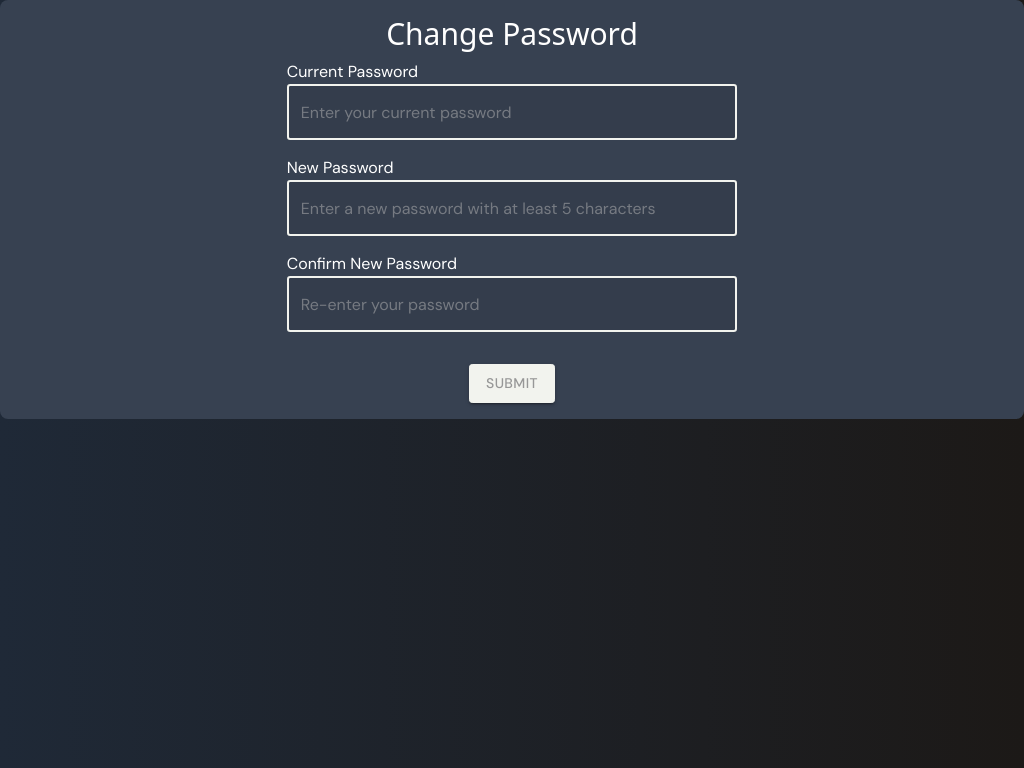
Test case: ChangePassword › Allow user to click submit button if the values of currentPassword, newPassword and confirmNewPassword is valid
Type "12345" into the password field labelled "Current Password". click: (512, 112)
box: left=287, top=84, right=737, bottom=140
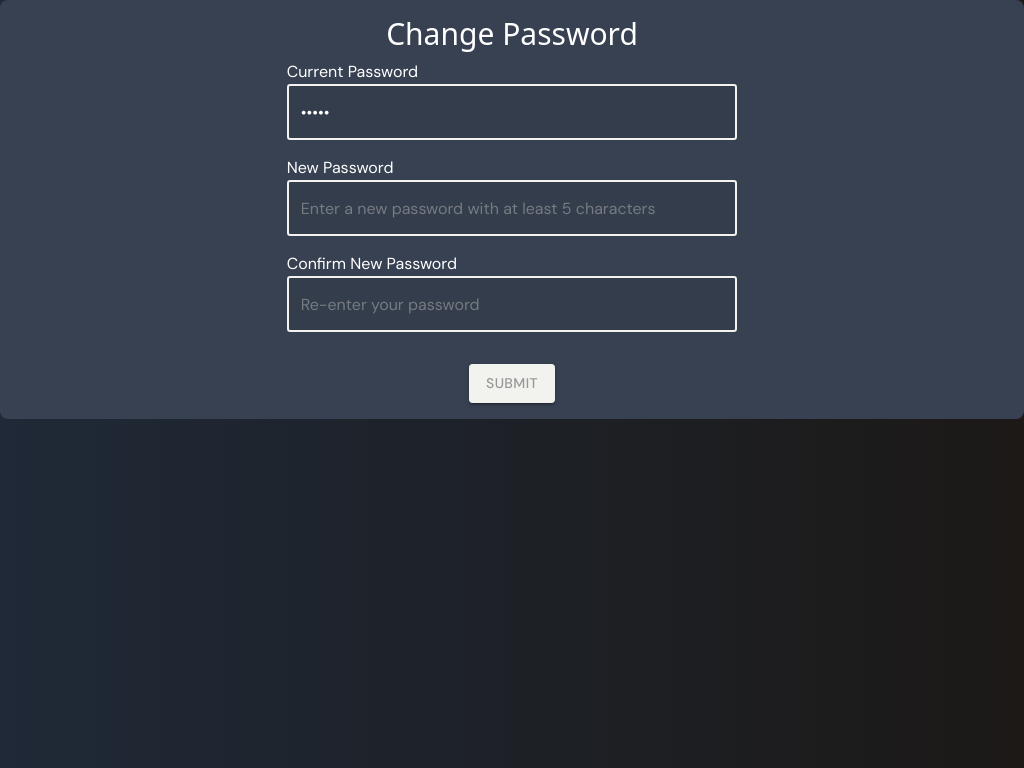
Type "56789" into the password field labelled "New Password". click: (512, 208)
box: left=287, top=180, right=737, bottom=236
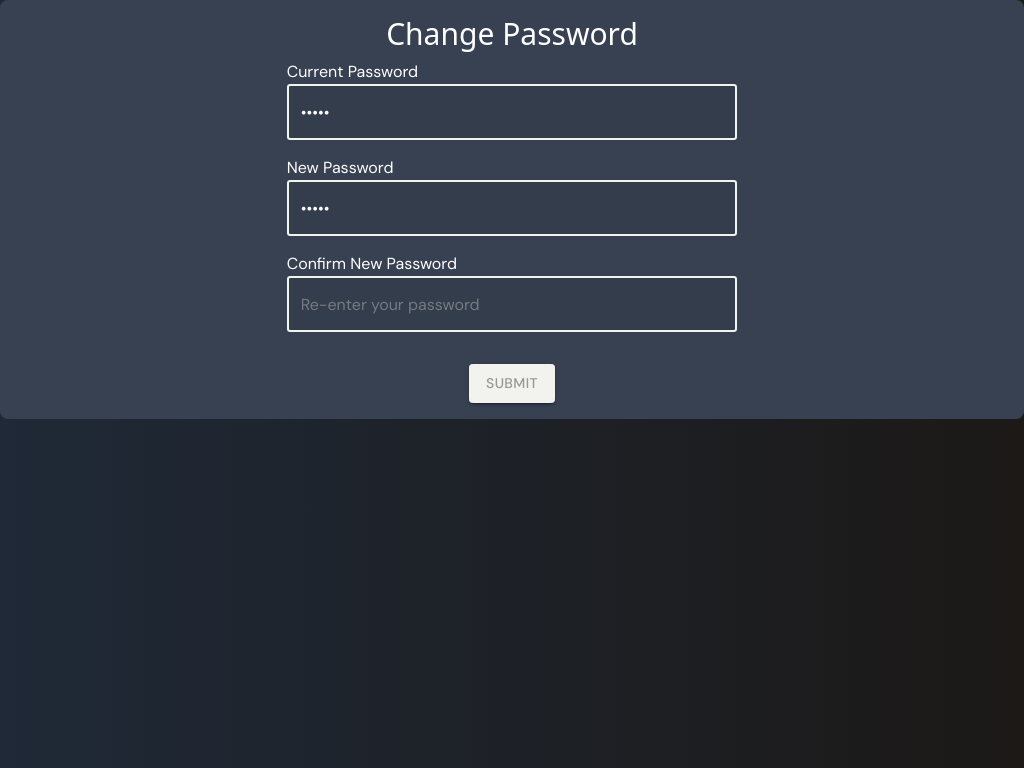
Type "56789" into the password field labelled "Confirm New Password". click: (512, 304)
box: left=287, top=276, right=737, bottom=332
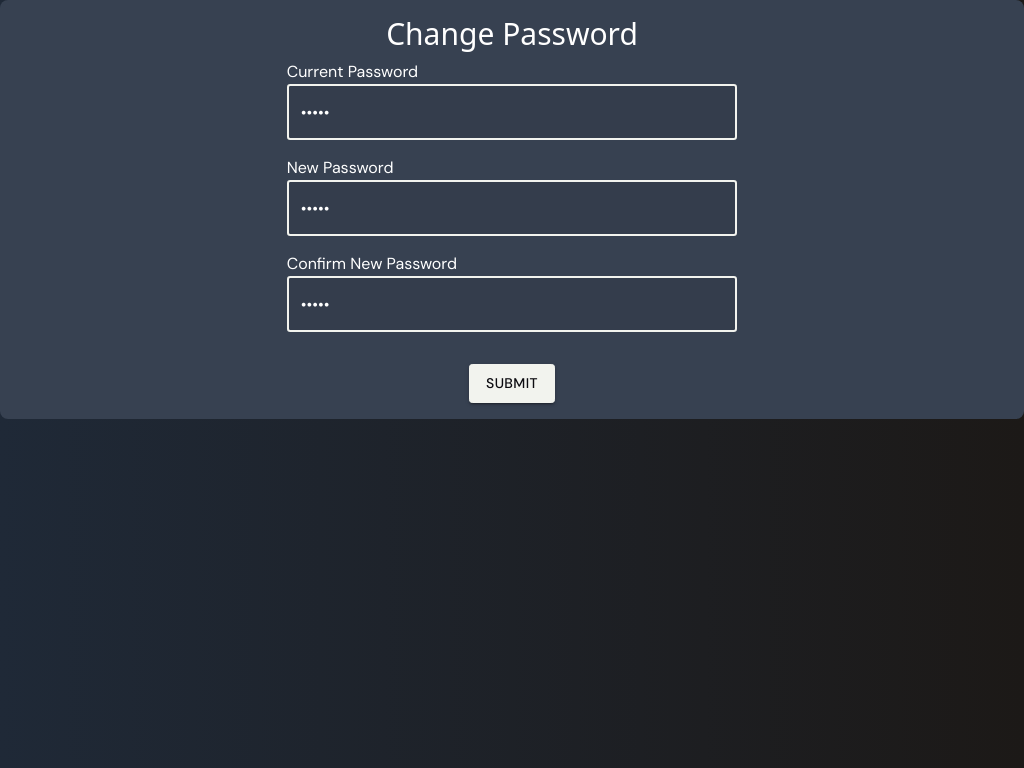
Check: the button "SUBMIT" is enabled, box left=469, top=364, right=555, bottom=402
